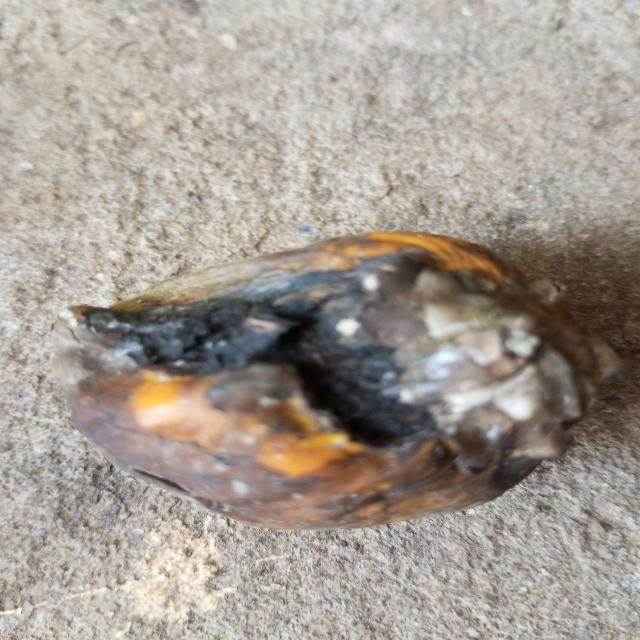damaged: (58, 231, 618, 533)
